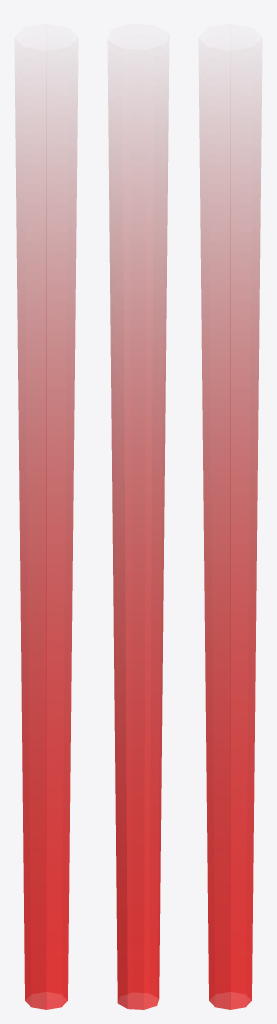
The model's file is FrsSaeule_Rot.gltf.
3 renders of one model, left to right at view 1: azimuth 90°, elevation 25°; view 2: azimuth 150°, elevation 25°; view 3: azimuth 270°, elevation 25°, orthographic.
Visible parts, largest first — view 1: frs_saeule_rot; view 2: frs_saeule_rot; view 3: frs_saeule_rot.
Part boxes in pixels (left/top/right/bottom): frs_saeule_rot: left=15, top=73, right=77, bottom=1009; frs_saeule_rot: left=108, top=92, right=168, bottom=1009; frs_saeule_rot: left=199, top=73, right=261, bottom=1009.
Size of the model in its own units: 6 by 100 by 6.
